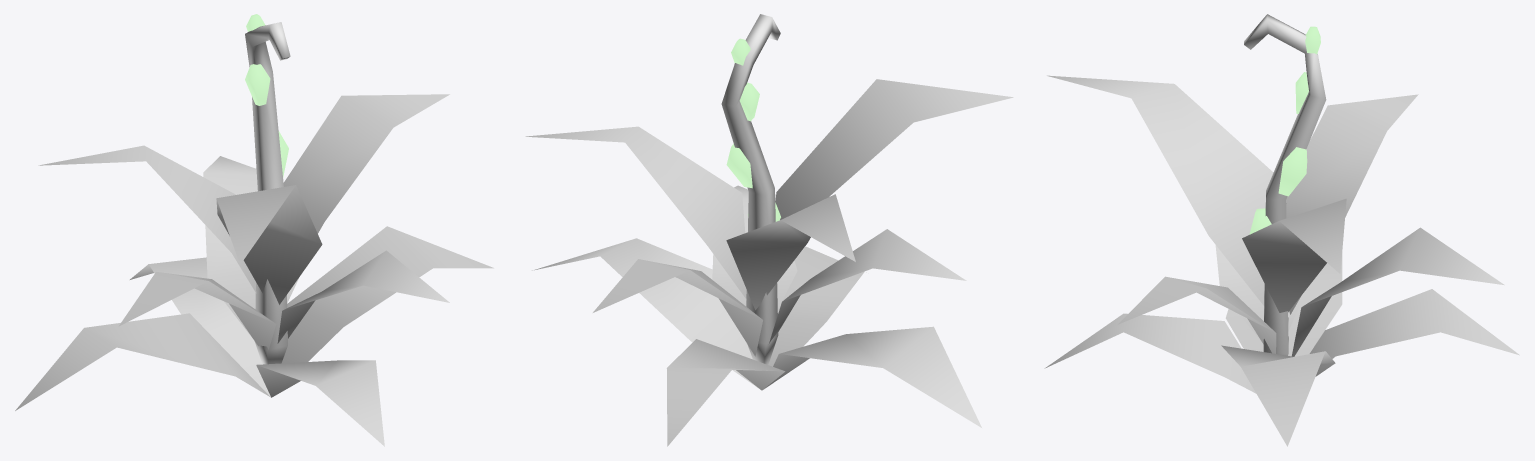
The model's file is sorrow_plant.glb.
3 renders of one model, left to right at view 1: azimuth 30°, elevation 25°; view 2: azimuth 150°, elevation 25°; view 3: azimuth 270°, elevation 25°, orthographic. The views are drawn at different scales.
Parts seen in each view (by area): view 1: Stem; view 2: Stem; view 3: Stem.
Part boxes in pixels (x1=…): Stem: x1=15, y1=14, x2=493, y2=446; Stem: x1=525, y1=14, x2=1013, y2=446; Stem: x1=1044, y1=14, x2=1519, y2=446.
Bounding box in the file's own units: 1.55 × 1.19 × 1.33.
